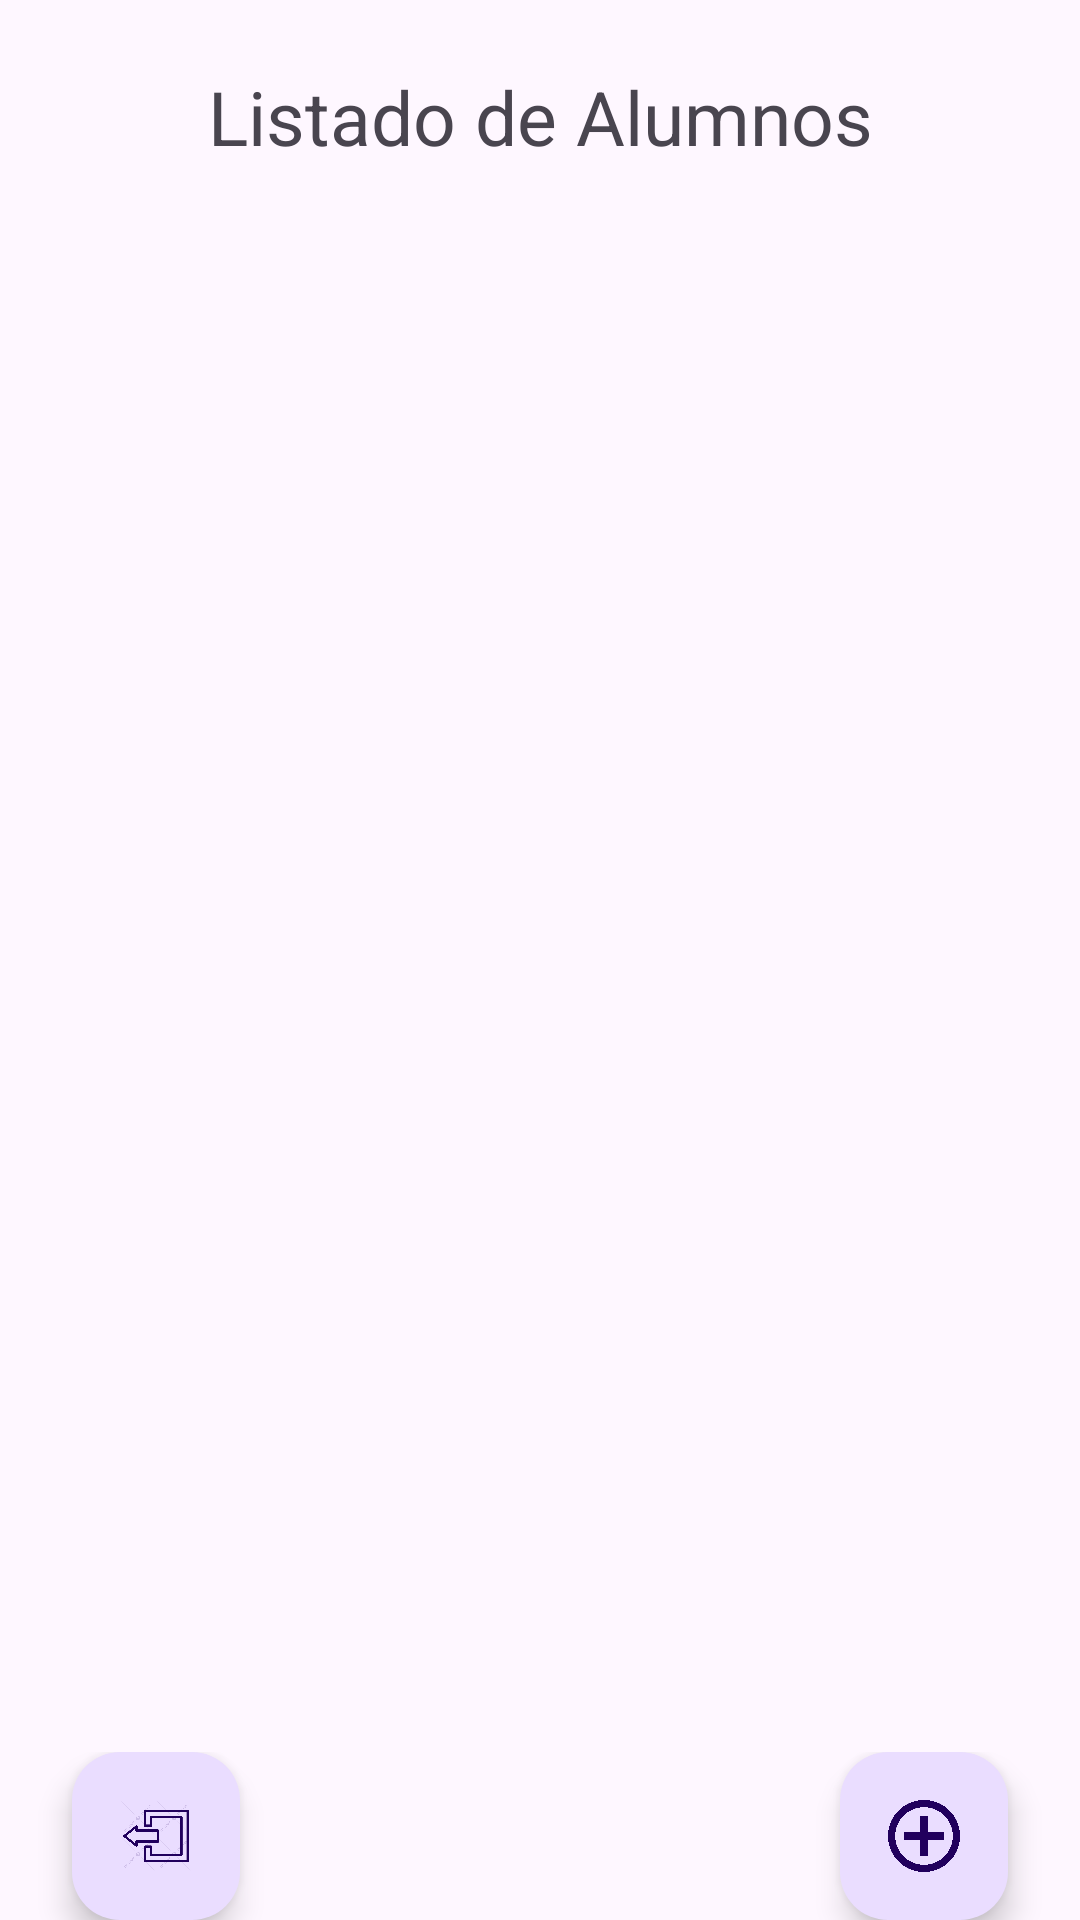

Icon bounding boxes for this 1080w x 1920h phone screenshot, format (x1, y1, x2, y2):
agregar: (840, 1752, 1008, 1920)
salir: (72, 1752, 240, 1920)
